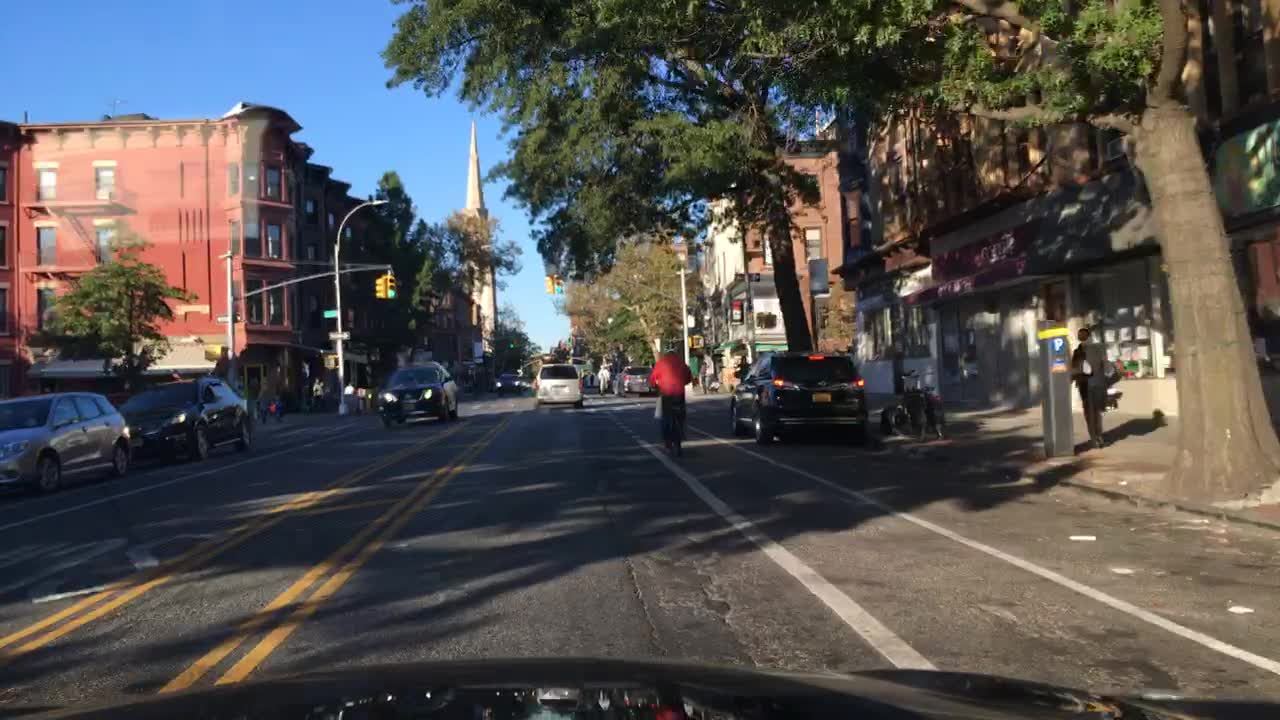bike: (913, 367, 948, 439), (891, 390, 929, 438), (658, 400, 686, 455)
car: (729, 348, 870, 445), (0, 395, 129, 494), (117, 378, 250, 460), (374, 362, 459, 426), (532, 363, 586, 408), (612, 366, 658, 392), (494, 374, 520, 394), (582, 373, 601, 385), (520, 377, 537, 389)
person: (1071, 328, 1116, 448), (309, 375, 329, 407), (597, 362, 612, 394), (735, 357, 751, 379), (699, 361, 708, 392), (343, 383, 356, 396), (710, 379, 723, 391)
rider: (650, 348, 691, 452)
traffic light: (754, 312, 777, 328), (205, 345, 227, 361), (388, 275, 399, 301), (553, 274, 565, 295), (323, 355, 340, 368), (375, 275, 385, 297), (544, 272, 554, 293), (564, 331, 577, 346), (689, 336, 706, 347), (508, 336, 517, 348)
traffic sign: (1049, 336, 1066, 370), (215, 312, 241, 324), (734, 270, 758, 280), (328, 330, 350, 340), (323, 309, 338, 318)
